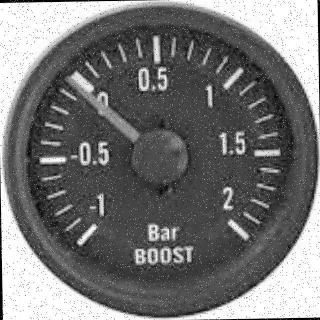gauge: (10, 6, 320, 320), (128, 127, 190, 187), (67, 192, 117, 260), (216, 204, 256, 252), (57, 70, 78, 86)
